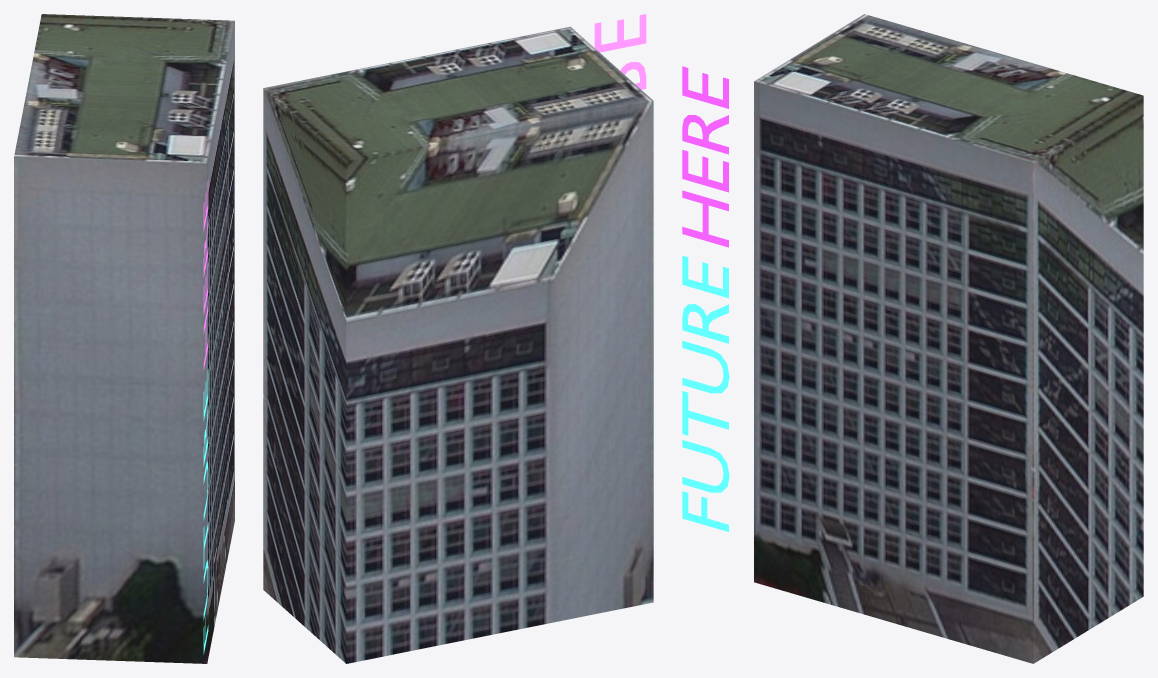
Rendered from bldg_cityHall.glb.
3 views of the same model, side by side, from view 1: azimuth 30°, elevation 25°; view 2: azimuth 150°, elevation 25°; view 3: azimuth 270°, elevation 25° (orthographic).
Visible parts, largest first — view 1: bldg_cityHall, lights_cityHall1a, lights_cityHall1b; view 2: bldg_cityHall, lights_cityHall1b; view 3: bldg_cityHall, lights_cityHall1a, lights_cityHall1b.
Part boxes in pixels (<box>): bldg_cityHall: <box>14,14,234,663</box>; lights_cityHall1a: <box>203,369,208,654</box>; lights_cityHall1b: <box>203,180,208,370</box>; bldg_cityHall: <box>263,26,653,663</box>; lights_cityHall1b: <box>594,14,646,89</box>; bldg_cityHall: <box>754,14,1143,663</box>; lights_cityHall1a: <box>682,255,729,531</box>; lights_cityHall1b: <box>682,66,728,247</box>.
Bounding box in the file's own units: 3.4 × 5.33 × 4.45.
3 materials, 1 textured.
